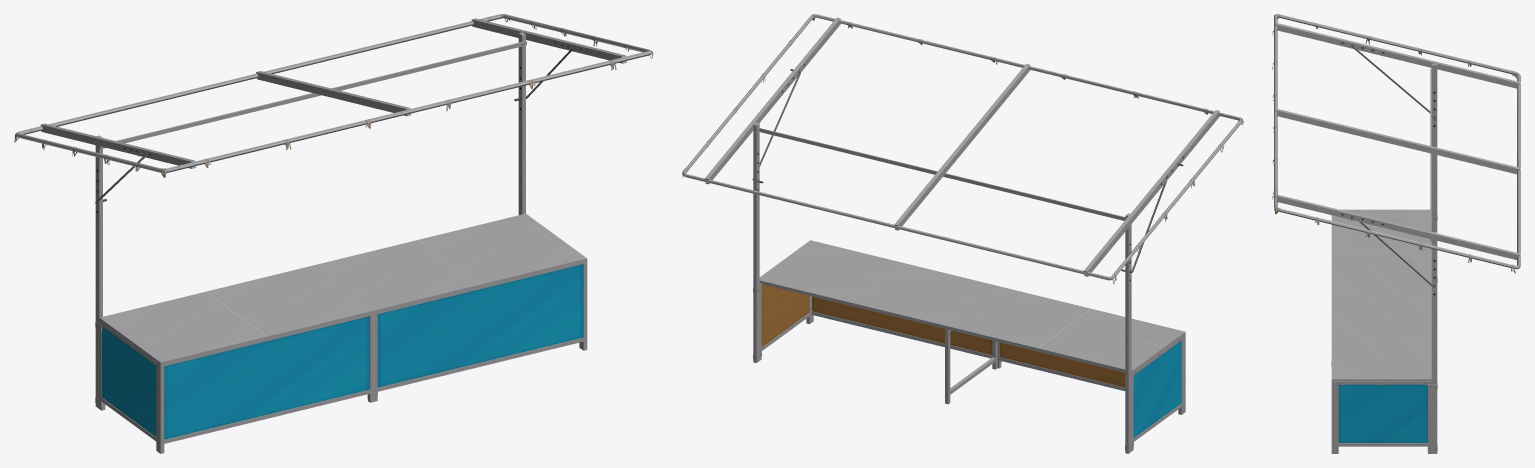
Rendered from jsf_2P_s04_c02_t01.fbx.
3 renders of one model, left to right at view 1: azimuth 30°, elevation 25°; view 2: azimuth 150°, elevation 25°; view 3: azimuth 270°, elevation 25°, orthographic. The views are drawn at different scales.
Visible parts, largest first — view 1: Base_s04_c02, Table_2P_s04_t01, Pillar2_s04, Rope_2P_s04; view 2: Table_2P_s04_t01, Pillar2_s04, Base_s04_c02, Support; view 3: Table_2P_s04_t01, Pillar2_s04, Base_s04_c02, Rope_2P_s04.
Boxes of the visible parts, x1,y1,x2,y2 form: Base_s04_c02: (95,258,587,453); Table_2P_s04_t01: (99,213,586,365); Pillar2_s04: (15,14,651,408); Rope_2P_s04: (14,14,653,177); Table_2P_s04_t01: (759,240,1184,374); Pillar2_s04: (682,14,1242,453); Base_s04_c02: (753,240,1185,451); Support: (945,329,997,404); Table_2P_s04_t01: (1332,209,1431,384); Pillar2_s04: (1274,14,1520,453); Base_s04_c02: (1331,215,1437,453); Rope_2P_s04: (1272,14,1516,273).
Size of the model in its own units: 395 by 244 by 211.
